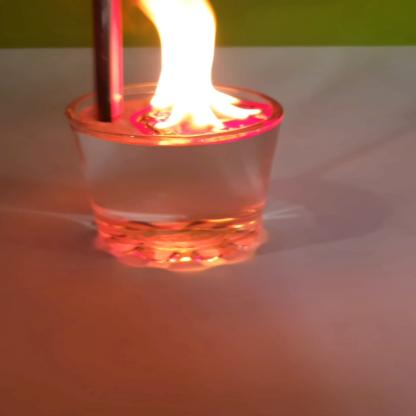Fire: (102, 0, 250, 130)
